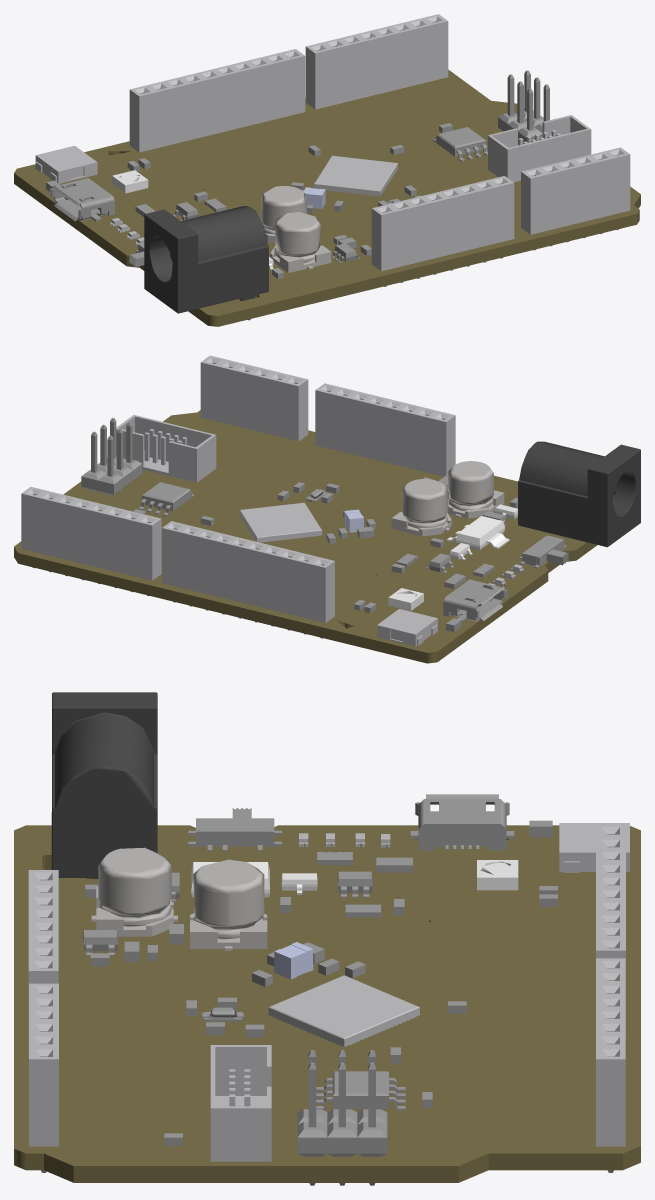
File: ada-3382.glb
3 renders of one model, top to bottom at view 1: azimuth 30°, elevation 25°; view 2: azimuth 150°, elevation 25°; view 3: azimuth 270°, elevation 25°, orthographic. The views are drawn at different scales.
Visible parts, largest first — view 1: 0.5833333333333334_0.5833333333333334_0.5833333333333334_0.8, 0.16666666666666666_0.16666666666666666_0.08333333333333333_, 0.08333333333333333_0.08333333333333333_0.08333333333333333_, 0.3333333333333333_0.3333333333333333_0.3333333333333333_0, 0.5_0.5_0.5_0.85, 0.9166666666666666_0.9166666666666666_0.9166666666666666_0.8; view 2: 0.5833333333333334_0.5833333333333334_0.5833333333333334_0.8, 0.16666666666666666_0.16666666666666666_0.08333333333333333_, 0.08333333333333333_0.08333333333333333_0.08333333333333333_, 0.3333333333333333_0.3333333333333333_0.3333333333333333_0, 0.5_0.5_0.5_0.85, 1_1_1_0.85, 0.9166666666666666_0.9166666666666666_0.9166666666666666_0.8; view 3: 0.16666666666666666_0.16666666666666666_0.08333333333333333_, 0.5833333333333334_0.5833333333333334_0.5833333333333334_0.8, 0.3333333333333333_0.3333333333333333_0.3333333333333333_0, 0.08333333333333333_0.08333333333333333_0.08333333333333333_, 0.5_0.5_0.5_0.85, 0.9166666666666666_0.9166666666666666_0.9166666666666666_0.8, 0.5833333333333334_0.6666666666666666_0.8333333333333334_0.
Boxes of the visible parts, x1=… form: 0.5833333333333334_0.5833333333333334_0.5833333333333334_0.8: x1=35, y1=14, x2=630, y2=286; 0.16666666666666666_0.16666666666666666_0.08333333333333333_: x1=14, y1=69, x2=640, y2=326; 0.08333333333333333_0.08333333333333333_0.08333333333333333_: x1=144, y1=206, x2=268, y2=320; 0.3333333333333333_0.3333333333333333_0.3333333333333333_0: x1=46, y1=70, x2=549, y2=278; 0.5_0.5_0.5_0.85: x1=260, y1=186, x2=331, y2=272; 0.9166666666666666_0.9166666666666666_0.9166666666666666_0.8: x1=112, y1=170, x2=273, y2=270; 0.5833333333333334_0.5833333333333334_0.5833333333333334_0.8: x1=21, y1=355, x2=523, y2=646; 0.16666666666666666_0.16666666666666666_0.08333333333333333_: x1=14, y1=410, x2=597, y2=663; 0.08333333333333333_0.08333333333333333_0.08333333333333333_: x1=518, y1=441, x2=640, y2=547; 0.3333333333333333_0.3333333333333333_0.3333333333333333_0: x1=81, y1=418, x2=568, y2=631; 0.5_0.5_0.5_0.85: x1=391, y1=461, x2=504, y2=536; 1_1_1_0.85: x1=447, y1=516, x2=509, y2=550; 0.9166666666666666_0.9166666666666666_0.9166666666666666_0.8: x1=388, y1=504, x2=517, y2=610; 0.16666666666666666_0.16666666666666666_0.08333333333333333_: x1=14, y1=825, x2=640, y2=1182; 0.5833333333333334_0.5833333333333334_0.5833333333333334_0.8: x1=28, y1=823, x2=629, y2=1172; 0.3333333333333333_0.3333333333333333_0.3333333333333333_0: x1=83, y1=794, x2=557, y2=1185; 0.08333333333333333_0.08333333333333333_0.08333333333333333_: x1=51, y1=692, x2=157, y2=878; 0.5_0.5_0.5_0.85: x1=91, y1=847, x2=267, y2=950; 0.9166666666666666_0.9166666666666666_0.9166666666666666_0.8: x1=281, y1=860, x2=518, y2=894; 0.5833333333333334_0.6666666666666666_0.8333333333333334_0: x1=274, y1=942, x2=313, y2=979.
Bounding box in the file's own units: 7.19 × 1.45 × 5.33.
